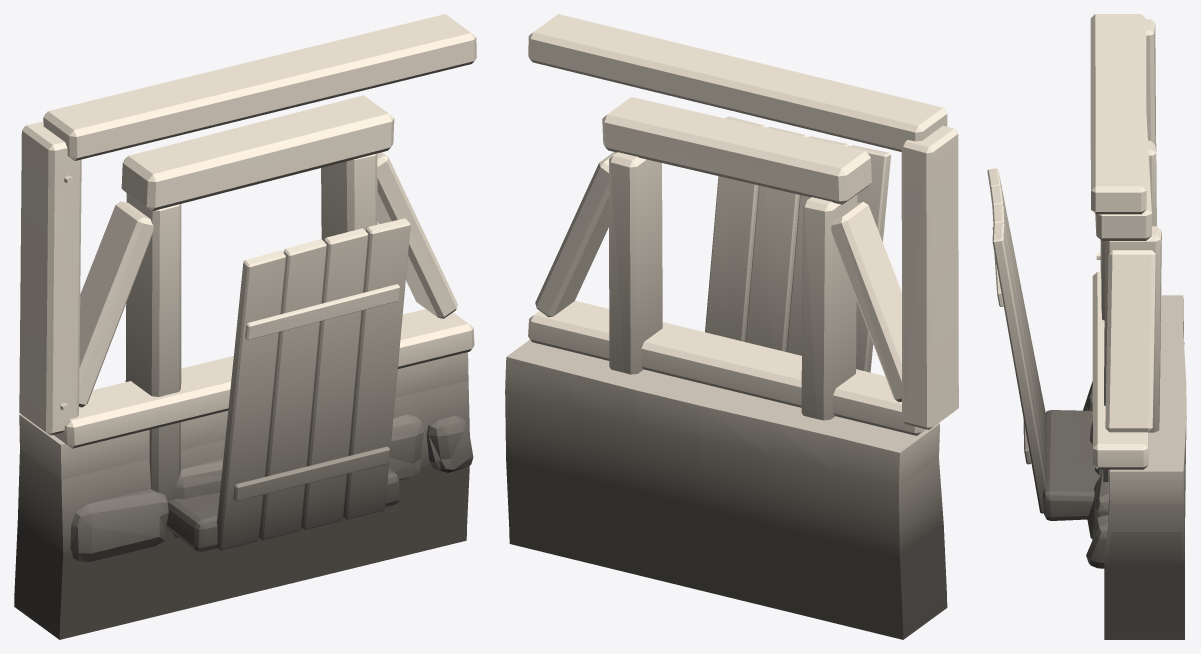
Rendered from SM_VK_Wall_Plaster_Frame_Door.fbx.
The picture shows the model from 3 angles, left to right: view 1: azimuth 30°, elevation 25°; view 2: azimuth 150°, elevation 25°; view 3: azimuth 270°, elevation 25°; orthographic projection. The views are drawn at different scales.
Parts seen in each view (by area): view 1: SM_VK_Wall_Plaster_Frame_Door.001; view 2: SM_VK_Wall_Plaster_Frame_Door.001; view 3: SM_VK_Wall_Plaster_Frame_Door.001.
Boxes of the visible parts, bbox=[...] form: SM_VK_Wall_Plaster_Frame_Door.001: bbox=[14, 14, 476, 639]; SM_VK_Wall_Plaster_Frame_Door.001: bbox=[505, 14, 958, 639]; SM_VK_Wall_Plaster_Frame_Door.001: bbox=[987, 14, 1186, 639].
Size of the model in its own units: 3.13 by 3.6 by 1.43.
